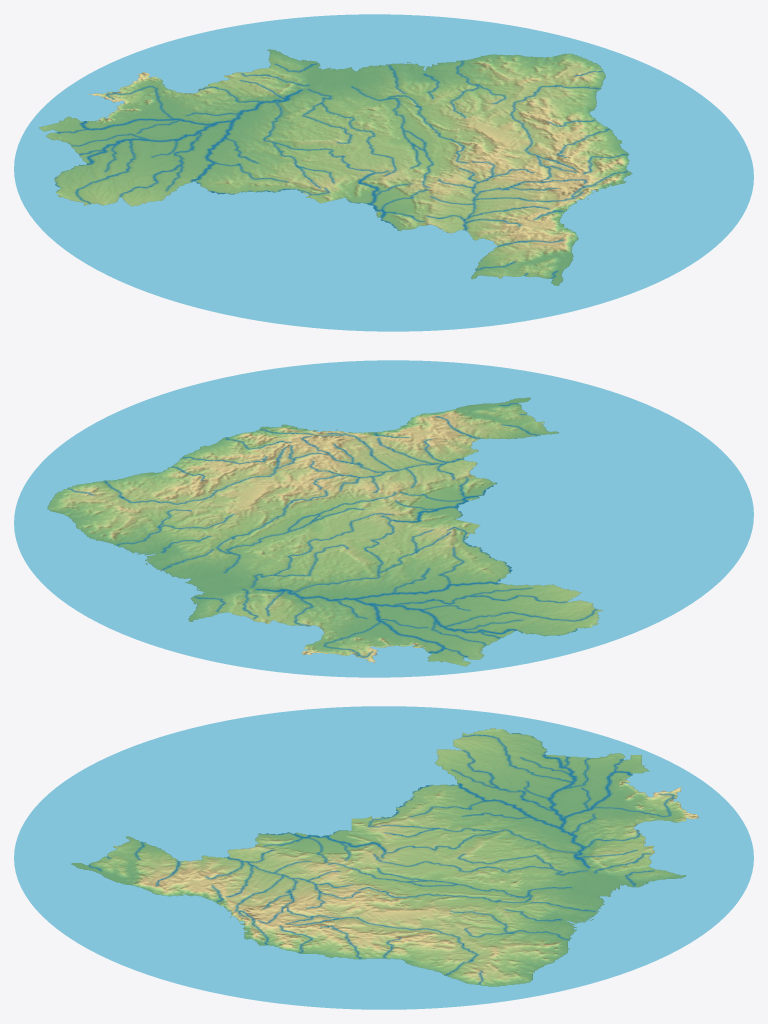
The model's file is BRA-terrain.glb.
The picture shows the model from 3 angles, top to bottom: view 1: azimuth 30°, elevation 25°; view 2: azimuth 150°, elevation 25°; view 3: azimuth 270°, elevation 25°; orthographic projection. The views are drawn at different scales.
Parts seen in each view (by area): view 1: Relevo com hidrografia; view 2: Relevo com hidrografia; view 3: Relevo com hidrografia.
Boxes of the visible parts, bbox=[...] form: Relevo com hidrografia: bbox=[14, 14, 753, 331]; Relevo com hidrografia: bbox=[14, 360, 753, 677]; Relevo com hidrografia: bbox=[14, 706, 753, 1009].
Bounding box in the file's own units: 1.84 × 0.00869 × 1.89.
Materials: 2 (1 with a texture image).
